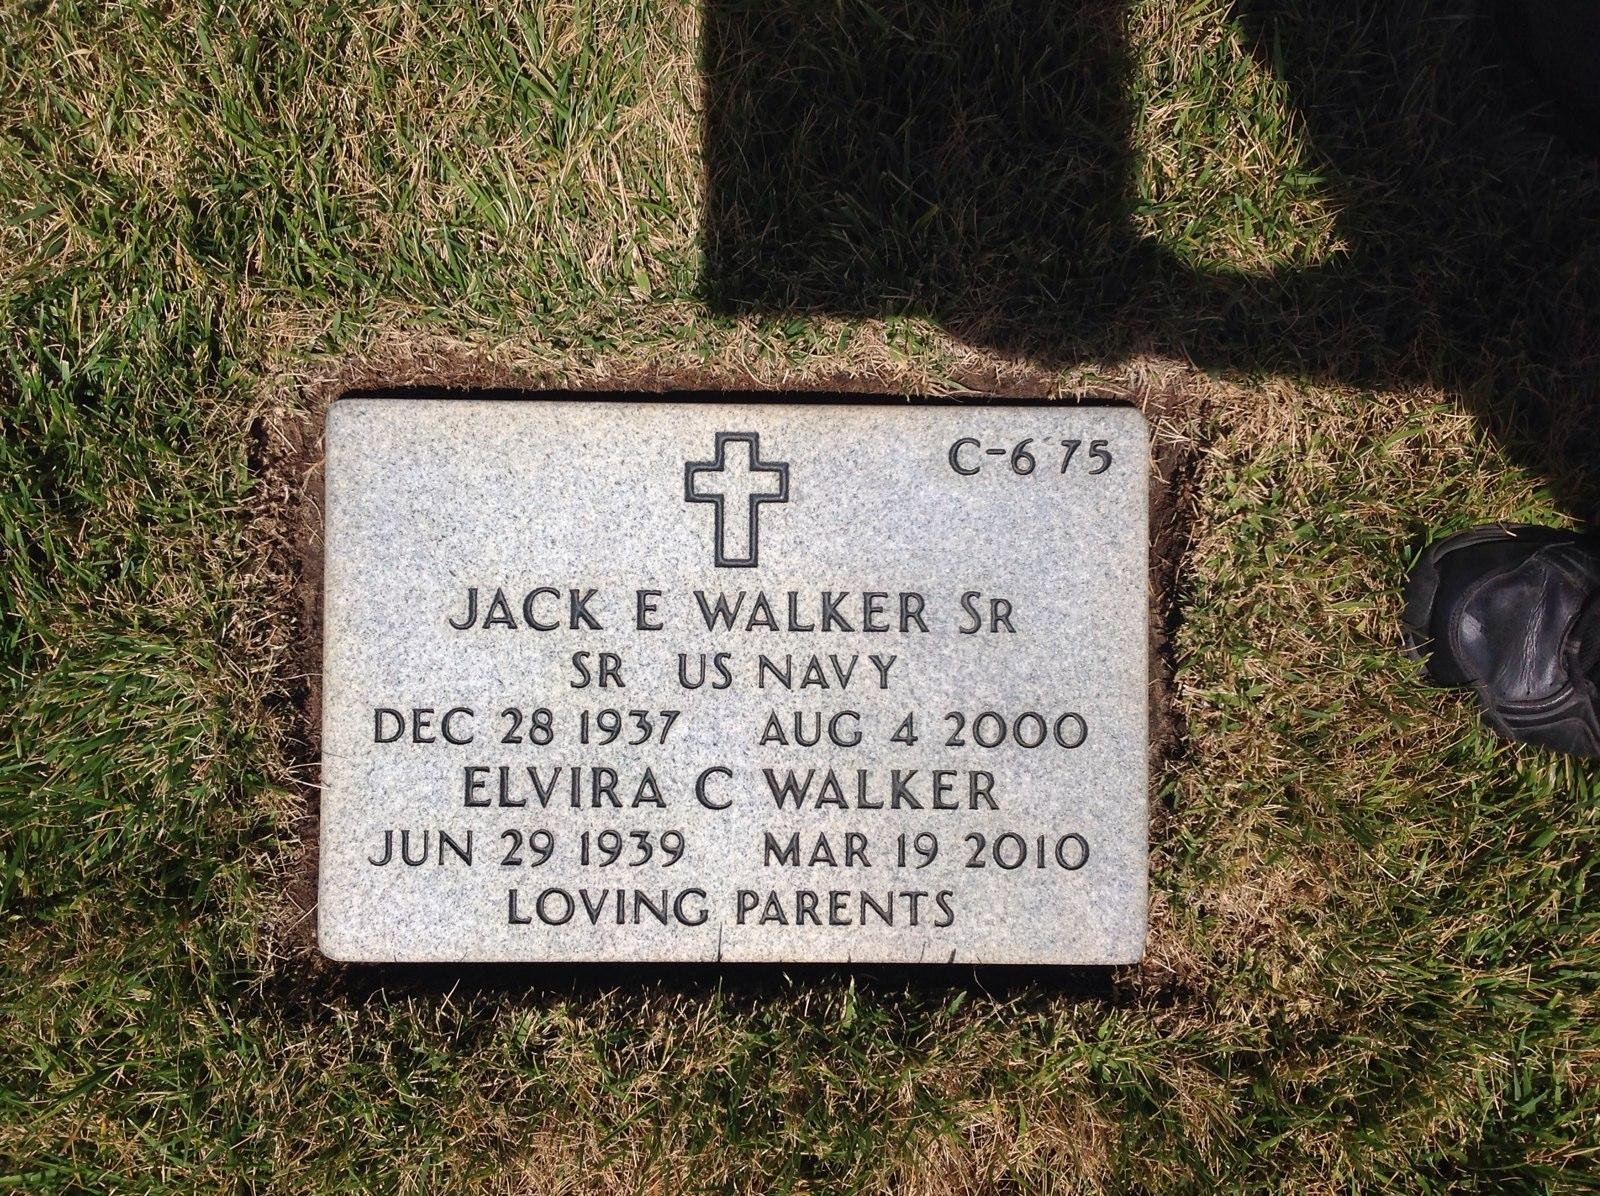flat: (293, 391, 1176, 982)
